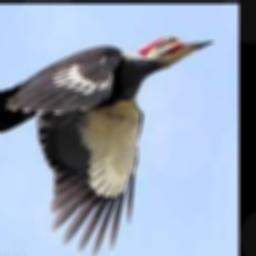Woodpecker: (0, 35, 214, 256)
